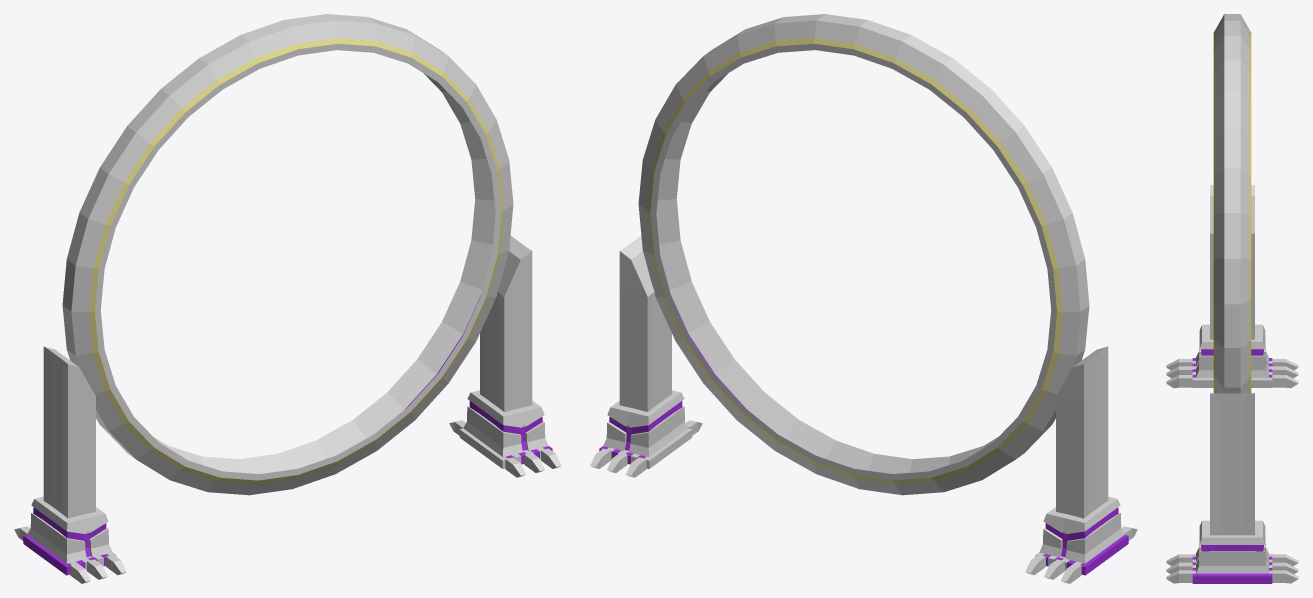
The model's file is Tower3.glb.
3 renders of one model, left to right at view 1: azimuth 30°, elevation 25°; view 2: azimuth 150°, elevation 25°; view 3: azimuth 270°, elevation 25°, orthographic. The views are drawn at different scales.
Parts seen in each view (by area): view 1: Cube; view 2: Cube; view 3: Cube.
Boxes of the visible parts, x1,y1,x2,y2 form: Cube: (14, 14, 561, 583); Cube: (590, 14, 1137, 583); Cube: (1166, 14, 1298, 583).
Size of the model in its own units: 7.71 by 7.26 by 1.97.
